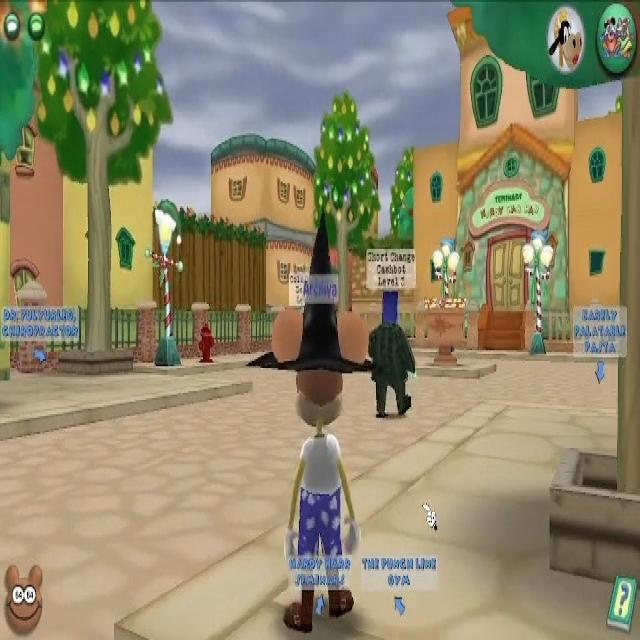coldcaller: (288, 271, 326, 380)
shortchange: (366, 250, 418, 418)
